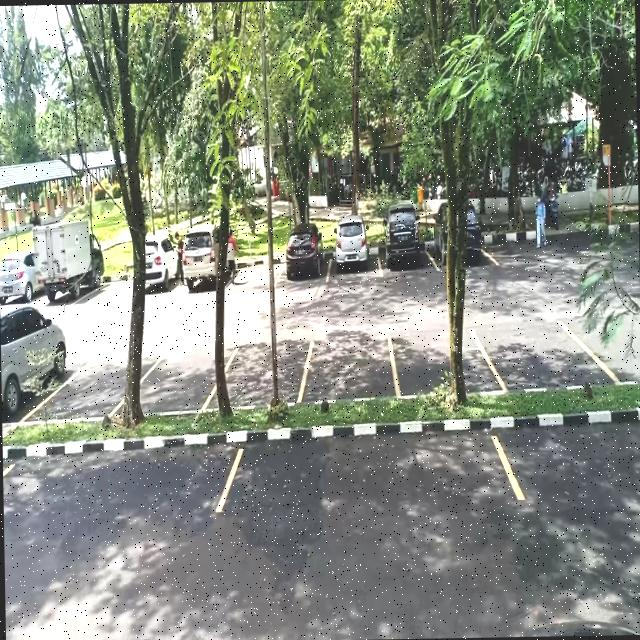empty: (223, 428, 520, 514), (2, 438, 235, 517), (489, 303, 599, 392), (391, 308, 491, 399), (300, 322, 398, 407), (210, 331, 306, 409), (47, 343, 142, 421), (136, 340, 218, 416)
occupied: (0, 315, 67, 422), (328, 223, 381, 280), (379, 224, 431, 278), (276, 236, 330, 286)
